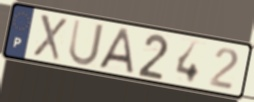2: (137, 32, 171, 83), (207, 47, 240, 92)
4: (174, 39, 202, 85)
A: (96, 27, 135, 75)
U: (66, 18, 106, 68)
X: (31, 12, 69, 63)
